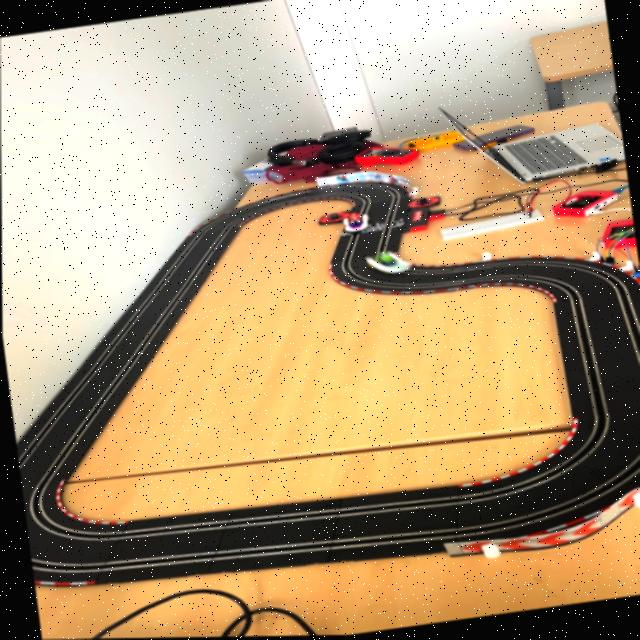mario: (340, 210, 372, 235)
yoshi: (361, 246, 415, 282)
